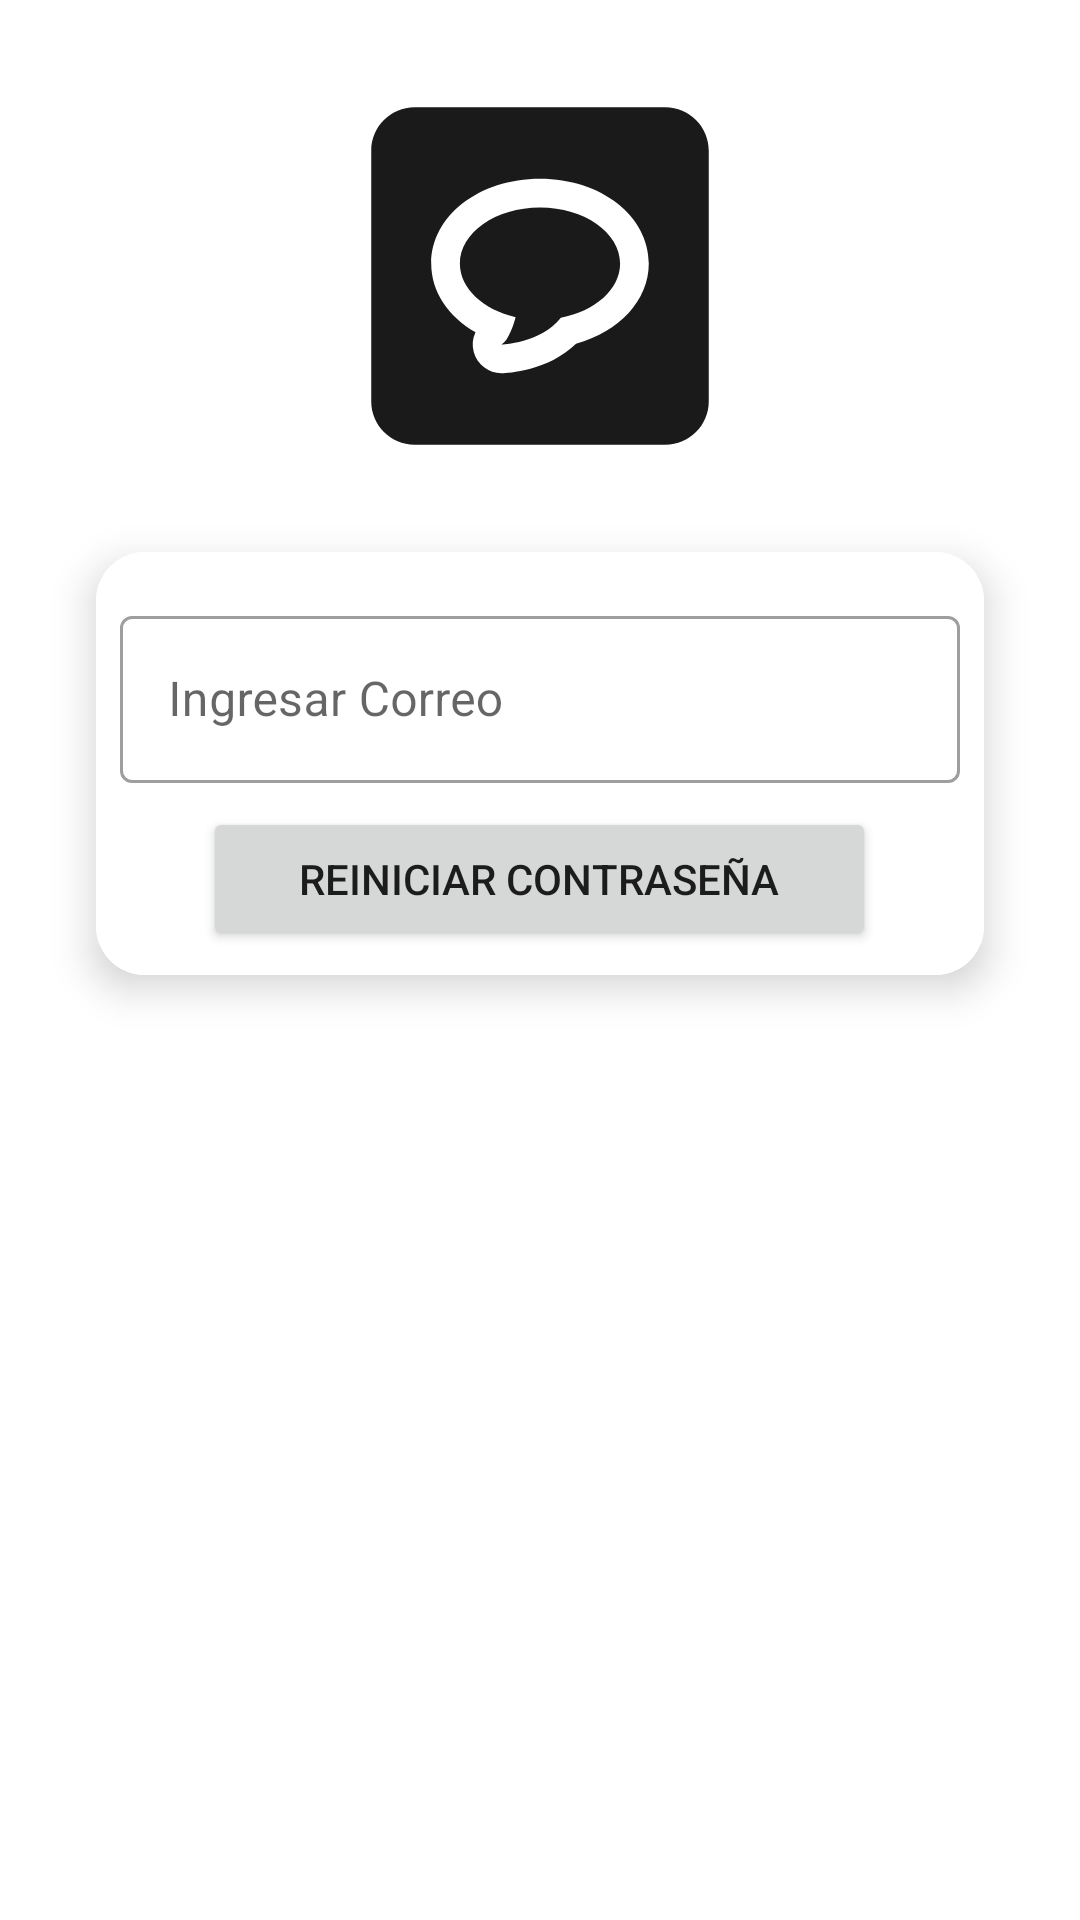

Where icons sit on this 1080w x 1920h app screen, as (x1, y1, x2, y2):
chatapp: (371, 107, 709, 445)
